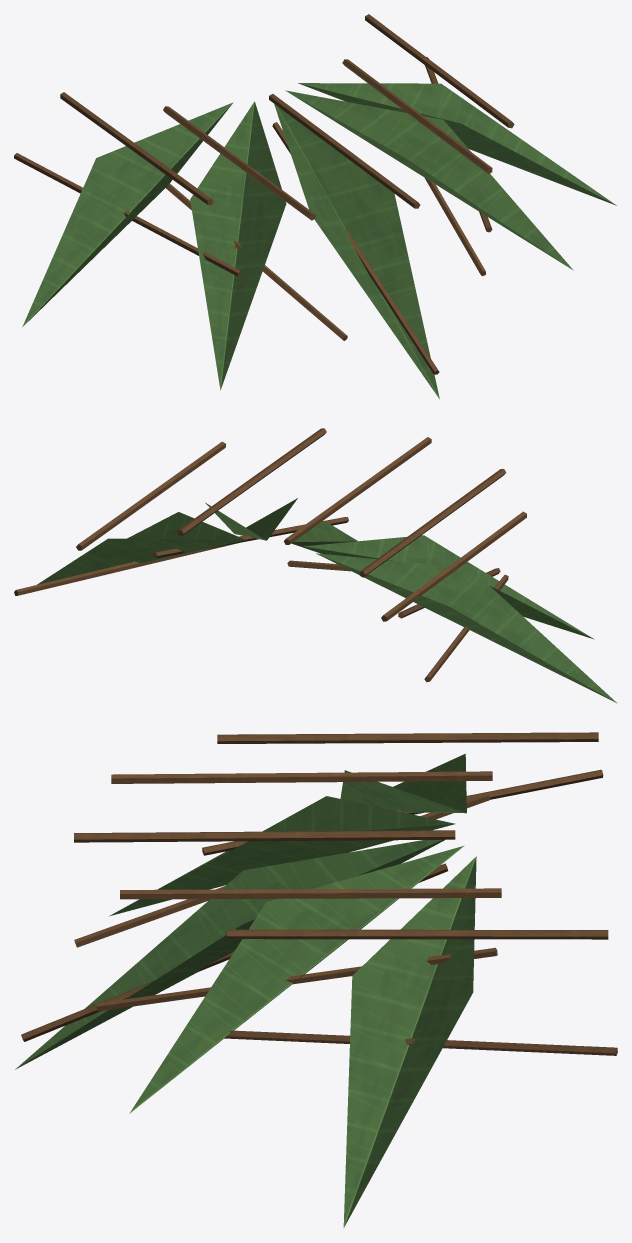
File: pr-011_palm_leaf_pile__small.obj
3 views of the same model, one above another, from view 1: azimuth 30°, elevation 25°; view 2: azimuth 150°, elevation 25°; view 3: azimuth 270°, elevation 25° (orthographic). The views are drawn at different scales.
Visible parts, largest first — view 1: pr-011_palm_leaf_pile__small; view 2: pr-011_palm_leaf_pile__small; view 3: pr-011_palm_leaf_pile__small.
Part boxes in pixels (x1,y1,x2,y2): pr-011_palm_leaf_pile__small: [14, 14, 616, 399]; pr-011_palm_leaf_pile__small: [14, 428, 617, 703]; pr-011_palm_leaf_pile__small: [15, 732, 617, 1227].
Bounding box in the file's own units: 1.43 × 0.4167 × 0.9501.
2 materials, 2 textured.
